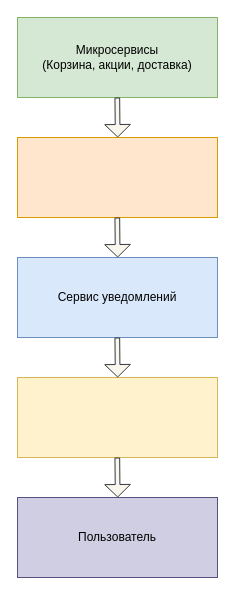
This 235x595 diagram has some shape labels left out. The shapes that lost their labels are listed below. From the top down, each one's centre as x and y in pixels, then its label:
At point (117, 177): "Очередь сообщений (Kafka, RabbbitMQ)".
At point (117, 417): "Шлюзы уведомлений (APNs (iOS), FCM (android))".
